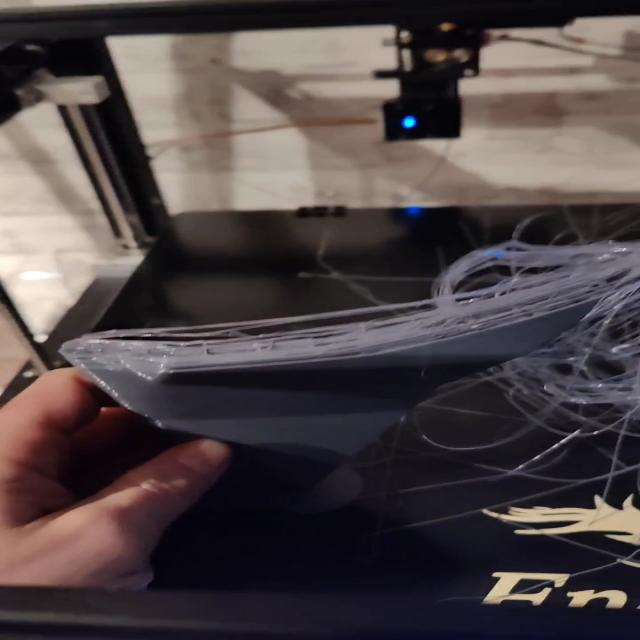spaghetti: (361, 198, 640, 501)
